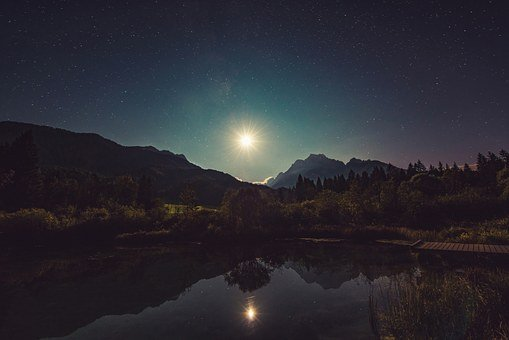lake: (10, 226, 509, 339)
mountain: (18, 115, 501, 225)
sky: (6, 4, 509, 168)
